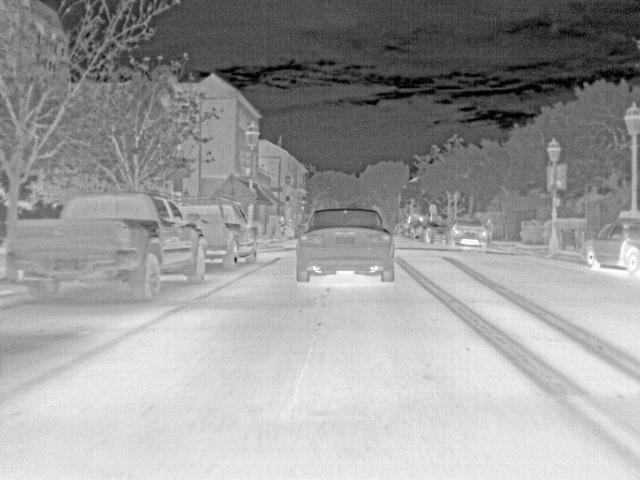car: (6, 191, 208, 304), (295, 207, 395, 284), (176, 200, 260, 269), (574, 217, 640, 274), (450, 218, 488, 246), (421, 219, 450, 244), (407, 220, 420, 239), (393, 223, 407, 236)
person: (276, 215, 288, 237), (485, 218, 497, 240), (287, 216, 296, 237)
